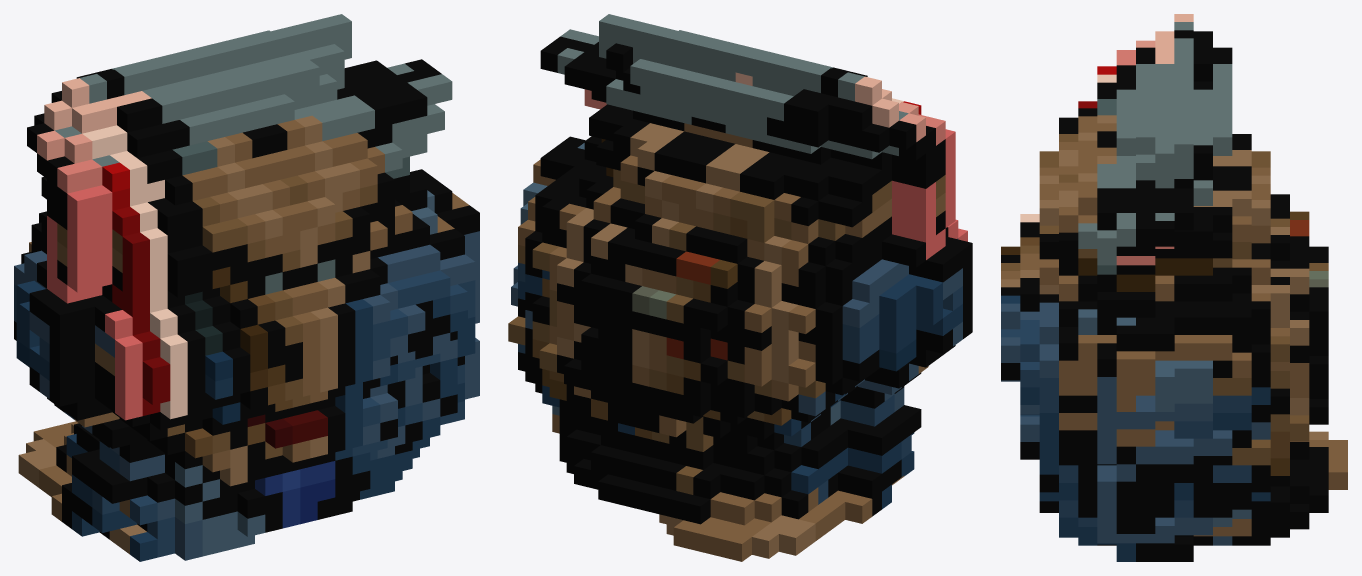
Rendered from Icon_019_03.obj.
3 renders of one model, left to right at view 1: azimuth 30°, elevation 25°; view 2: azimuth 150°, elevation 25°; view 3: azimuth 270°, elevation 25°, orthographic. The views are drawn at different scales.
Bounding box in the file's own units: 2.4 × 2.4 × 1.8.
1 material, 1 textured.
